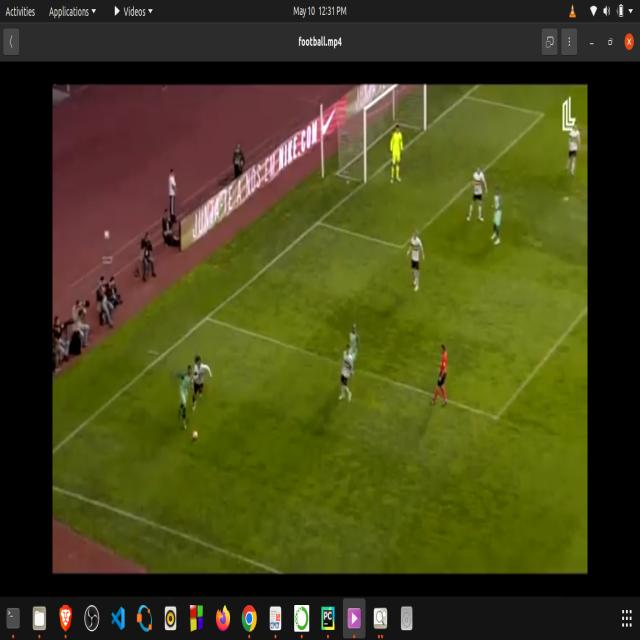Goalkeeper: (389, 123, 407, 189)
Refree: (428, 338, 454, 410)
football-players: (404, 223, 428, 296), (466, 161, 490, 227), (173, 356, 193, 430), (190, 354, 213, 411), (488, 180, 506, 252), (564, 116, 584, 180), (339, 339, 354, 408), (348, 319, 360, 376)
